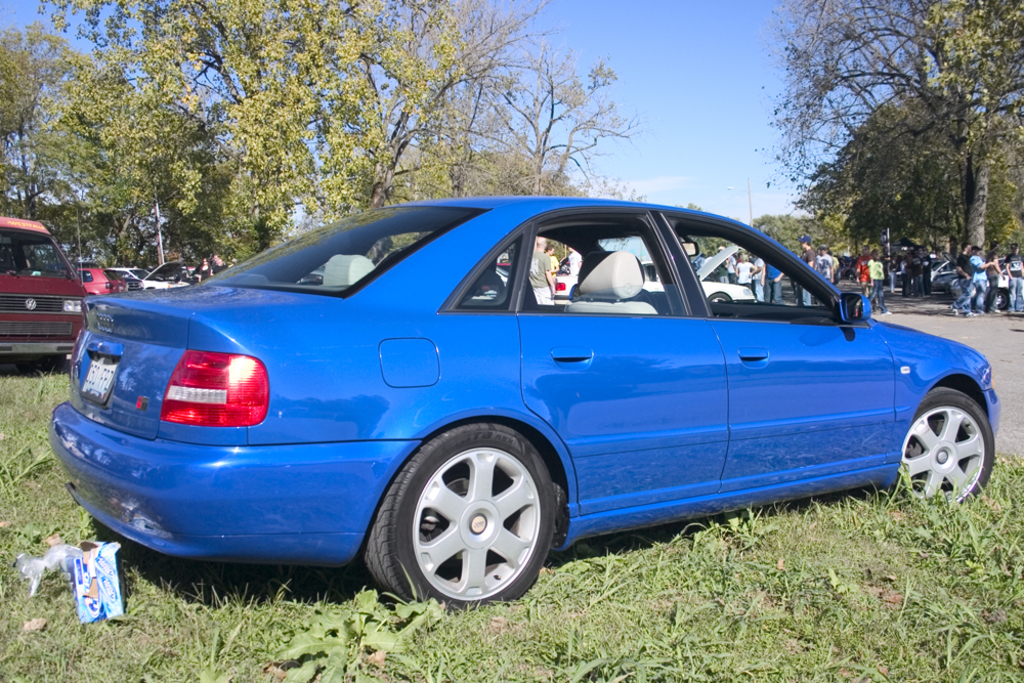Car: (29, 186, 1015, 617), (0, 216, 100, 375), (676, 235, 756, 300), (141, 251, 194, 282)
